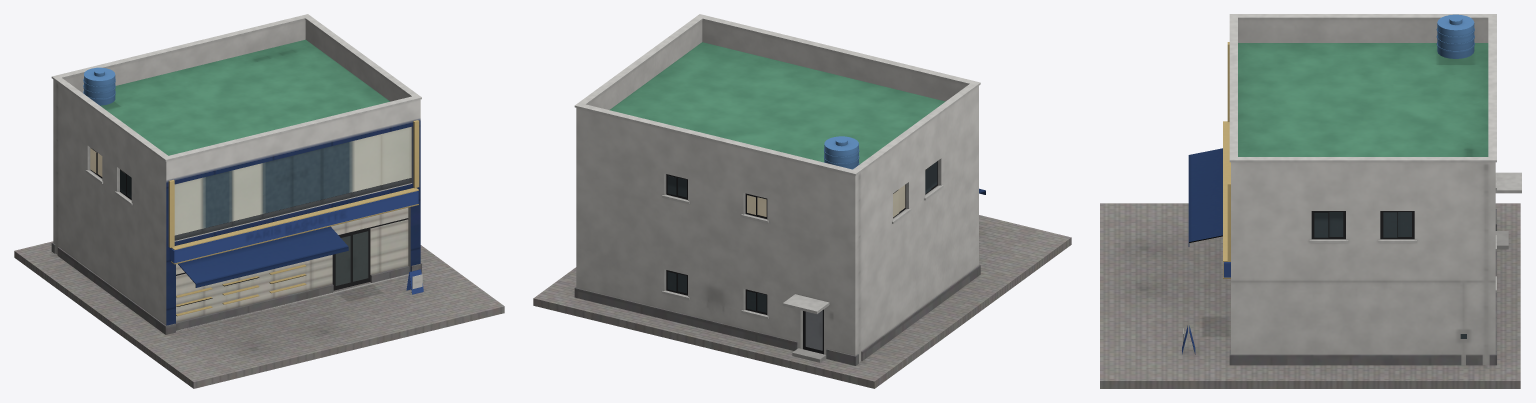
File: IlsanParisBaguette_LOD2.fbx
3 views of the same model, side by side, from view 1: azimuth 30°, elevation 25°; view 2: azimuth 150°, elevation 25°; view 3: azimuth 270°, elevation 25° (orthographic). The views are drawn at different scales.
Visible parts, largest first — view 1: IlsanParisBaguette_LOD2; view 2: IlsanParisBaguette_LOD2; view 3: IlsanParisBaguette_LOD2.
Boxes of the visible parts, box(x1,y1,x2,y2) form: IlsanParisBaguette_LOD2: box(14, 14, 504, 388); IlsanParisBaguette_LOD2: box(533, 14, 1071, 388); IlsanParisBaguette_LOD2: box(1100, 14, 1521, 388).
Bounding box in the file's own units: 15.9 × 9.4 × 15.95.
Materials: 1 (1 with a texture image).
